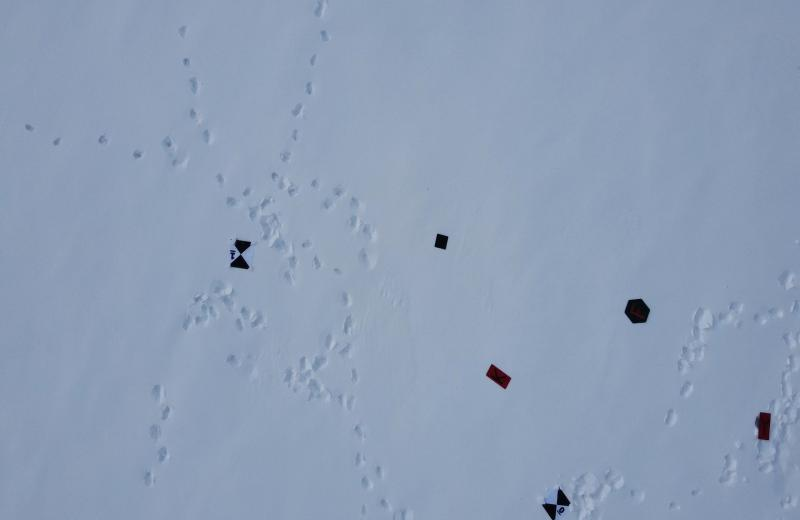Hexagon: (624, 296, 654, 331)
Rectangle: (485, 361, 514, 395), (754, 410, 782, 442)
Square: (429, 231, 451, 255)
